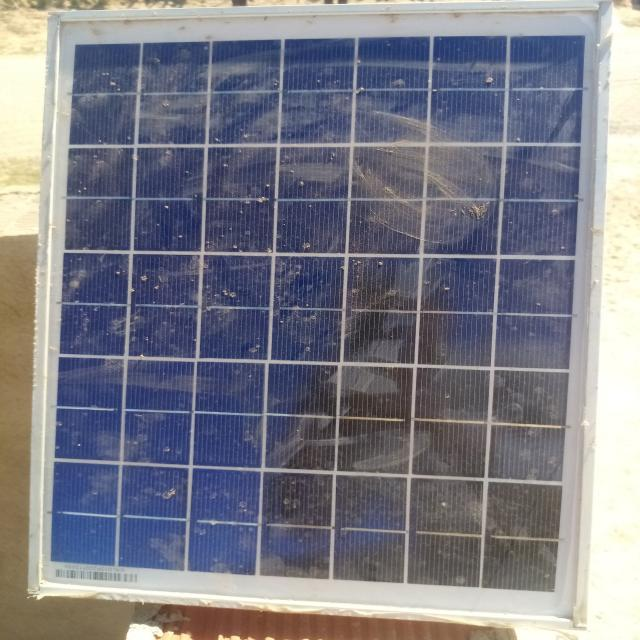faulty: (33, 5, 611, 622)
